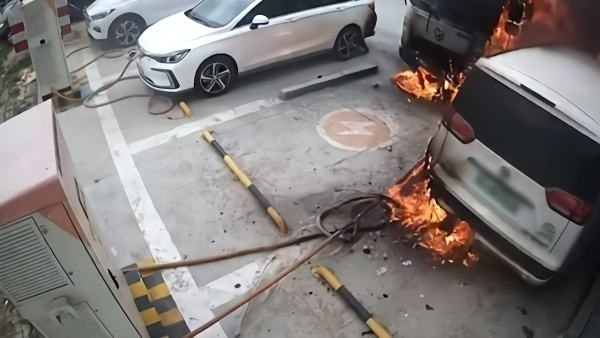fire: (383, 155, 477, 268), (486, 2, 569, 53), (392, 60, 468, 101), (177, 96, 194, 116)
